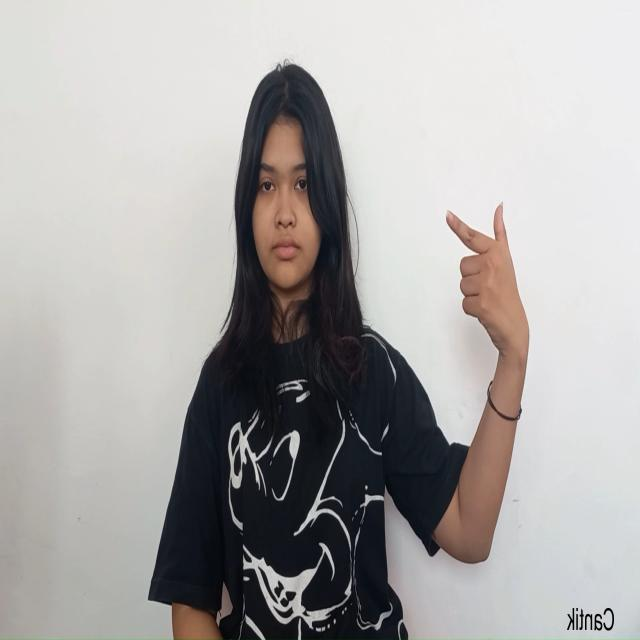Cantik -BISINDO-: (444, 199, 532, 379)
